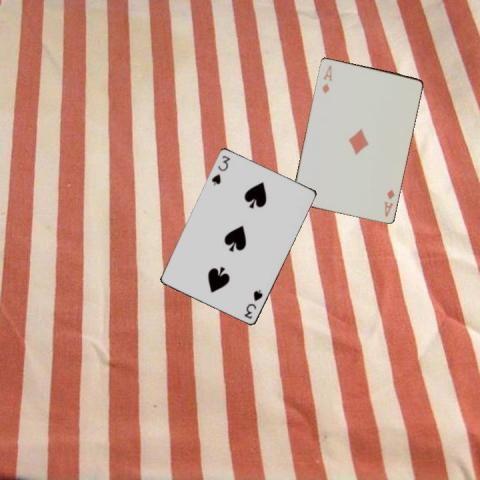3s: (241, 287, 264, 320), (209, 152, 231, 186)
Ad: (381, 186, 396, 218), (319, 62, 333, 95)
